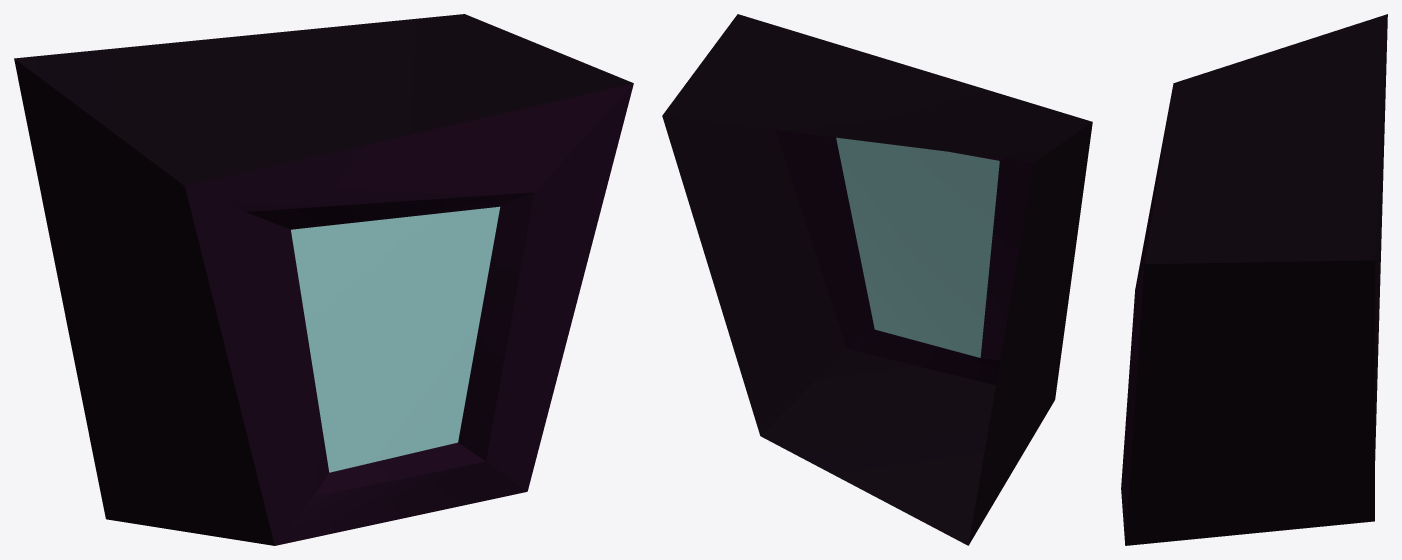
File: c_house_window_square_ad.fbx
3 views of the same model, side by side, from view 1: azimuth 30°, elevation 25°; view 2: azimuth 150°, elevation 25°; view 3: azimuth 270°, elevation 25° (orthographic). The views are drawn at different scales.
Visible parts, largest first — view 1: c_house_window_square_ad; view 2: c_house_window_square_ad; view 3: c_house_window_square_ad.
Part boxes in pixels (x1,y1,x2,y2): c_house_window_square_ad: (14, 14, 633, 545); c_house_window_square_ad: (662, 14, 1092, 545); c_house_window_square_ad: (1121, 14, 1387, 545).
Bounding box in the file's own units: 1.54 × 1.44 × 0.8201.
